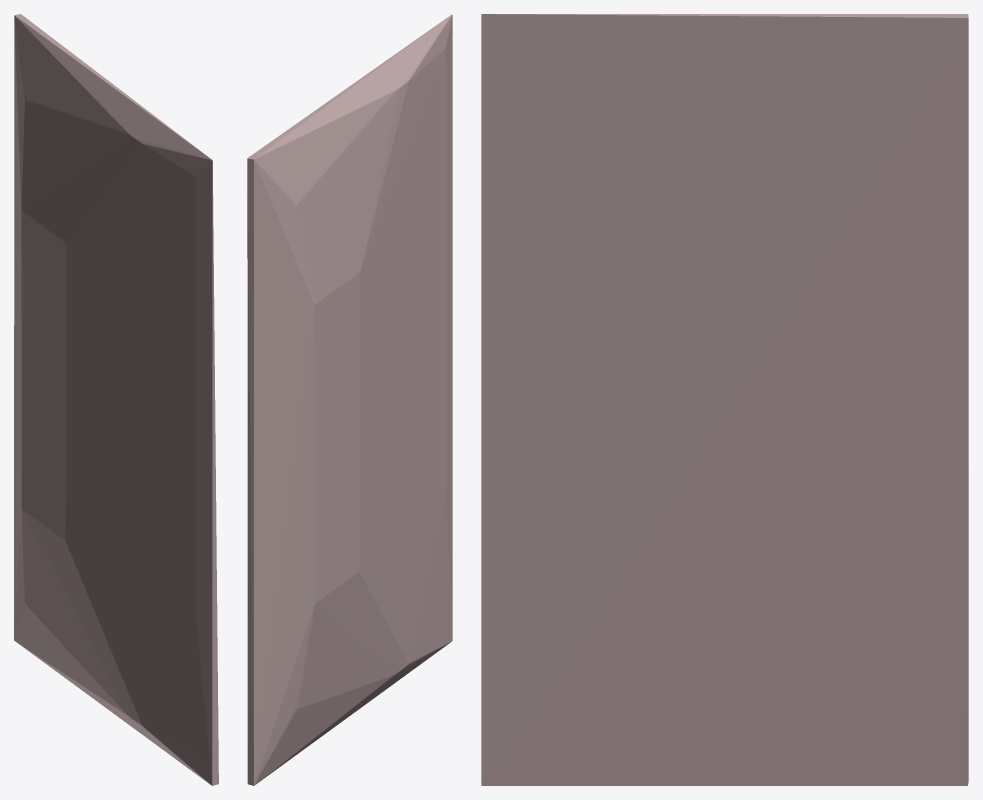
Rendered from digitalSystem_displayPanel_wall_a01.glb.
3 views of the same model, side by side, from view 1: azimuth 30°, elevation 25°; view 2: azimuth 150°, elevation 25°; view 3: azimuth 270°, elevation 25° (orthographic). The views are drawn at different scales.
Visible parts, largest first — view 1: geometry_0; view 2: geometry_0; view 3: geometry_0.
Part boxes in pixels (bbox=[...]): geometry_0: bbox=[14, 14, 218, 785]; geometry_0: bbox=[247, 14, 452, 785]; geometry_0: bbox=[481, 14, 968, 785].
Bounding box in the file's own units: 0.0267 × 0.4797 × 0.2758.
